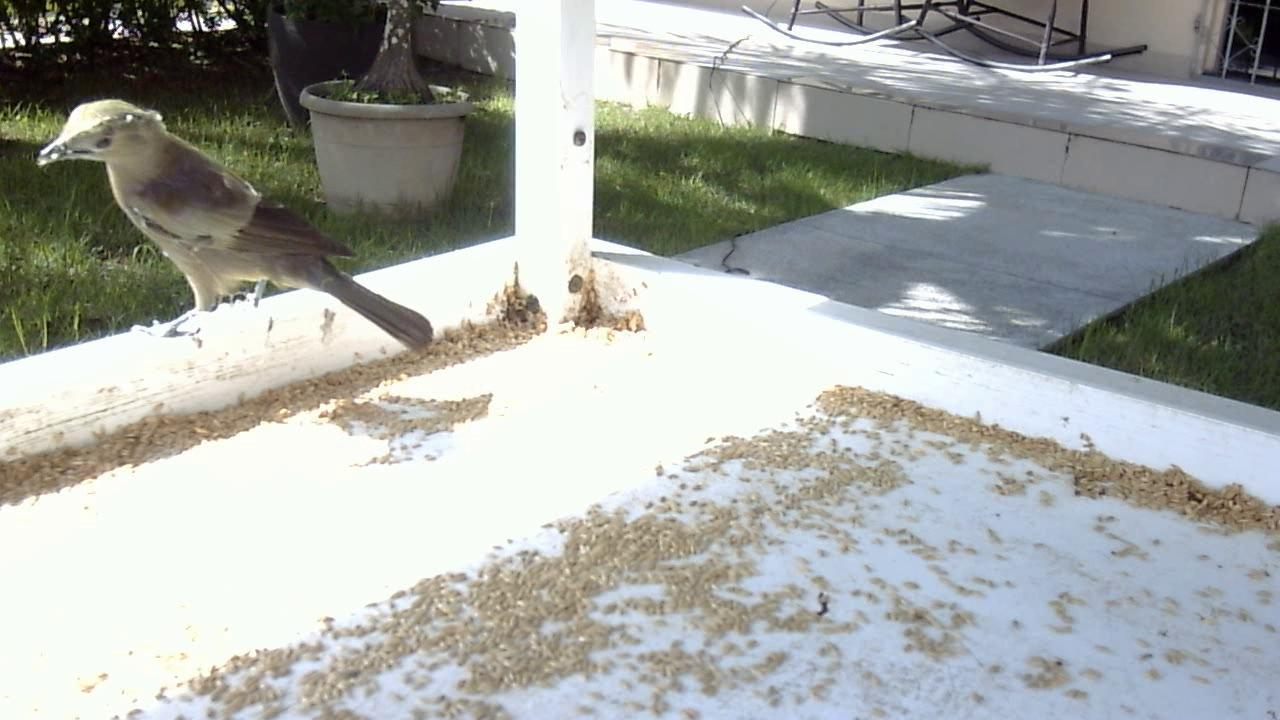sanhaco_do_coqueiro: (33, 92, 441, 367)
